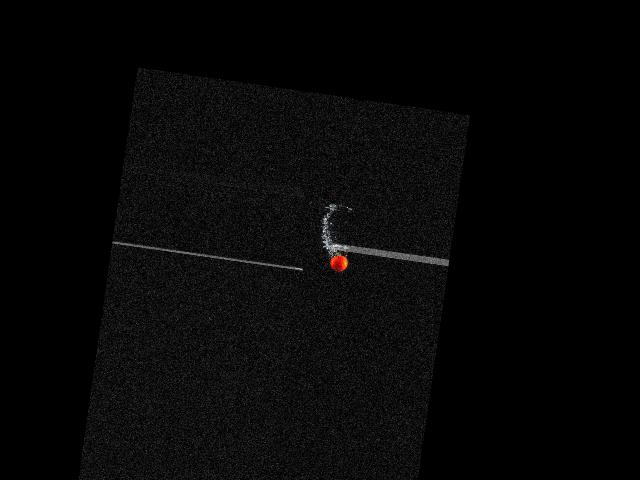tomato: (329, 254, 349, 272)
